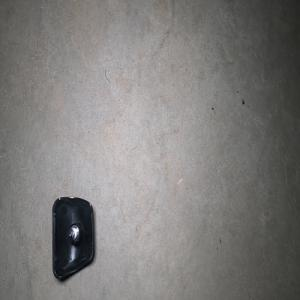LuggagePart: (51, 195, 95, 281)
